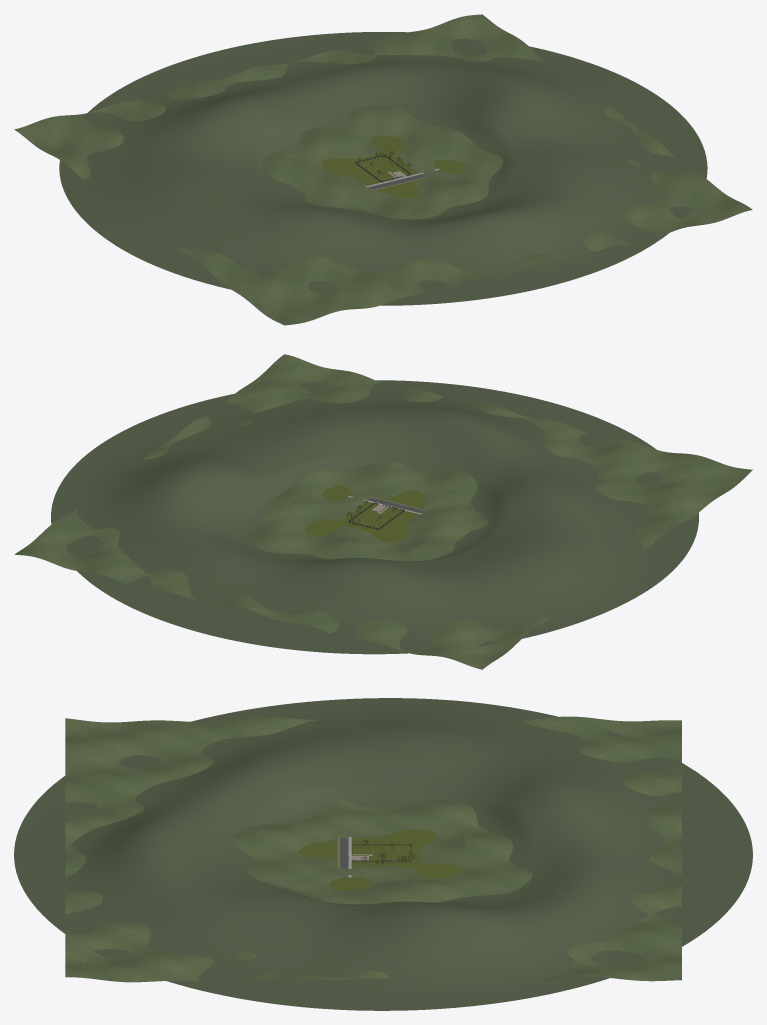
The model's file is grounds.glb.
3 views of the same model, one above another, from view 1: azimuth 30°, elevation 25°; view 2: azimuth 150°, elevation 25°; view 3: azimuth 270°, elevation 25° (orthographic). The views are drawn at different scales.
Parts seen in each view (by area): view 1: DistantHills, RollingMeadow, Ground; view 2: DistantHills, RollingMeadow, Ground; view 3: DistantHills, RollingMeadow, Ground.
Part boxes in pixels (box(x1,y1,x2,y2)): DistantHills: box(59, 32, 707, 305); RollingMeadow: box(14, 14, 752, 325); Ground: box(321, 136, 466, 210); DistantHills: box(51, 380, 698, 654); RollingMeadow: box(14, 354, 752, 669); Ground: box(304, 485, 473, 543); DistantHills: box(14, 698, 752, 1010); RollingMeadow: box(65, 716, 681, 982); Ground: box(298, 818, 462, 890).
Bounding box in the file's own units: 532 × 23.49 × 532.
41 materials, 8 textured.
